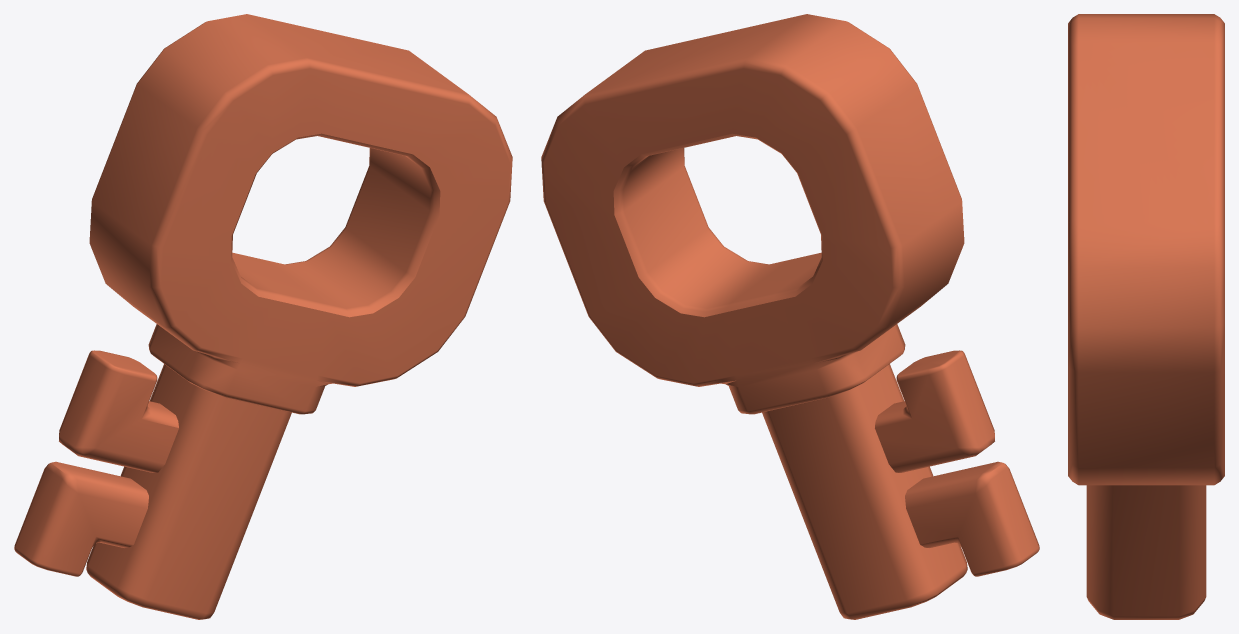
3 views of the same model, side by side, from view 1: azimuth 30°, elevation 25°; view 2: azimuth 150°, elevation 25°; view 3: azimuth 270°, elevation 25° (orthographic). The views are drawn at different scales.
Parts seen in each view (by area): view 1: model_0.086; view 2: model_0.086; view 3: model_0.086.
Part boxes in pixels (<box>): model_0.086: <box>14,14,512,619</box>; model_0.086: <box>541,14,1039,619</box>; model_0.086: <box>1068,14,1224,619</box>.
Size of the model in its own units: 3.57 by 4.09 by 0.9279.
